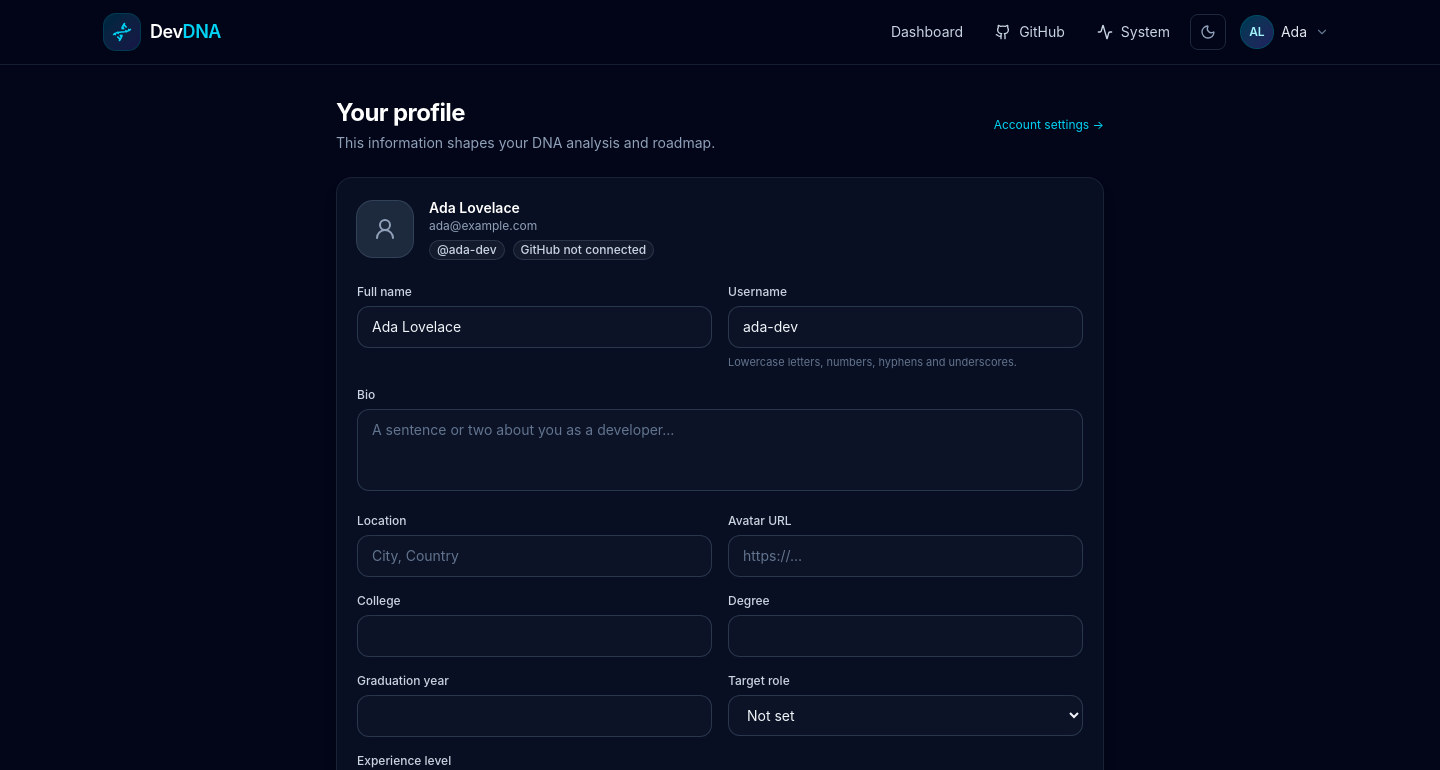
Test: profile editing › reports server validation errors inline
Replace the text in the field labelled "Username" with "taken-name" at (906, 327), box [728,306,1083,348]
(page scrolled)
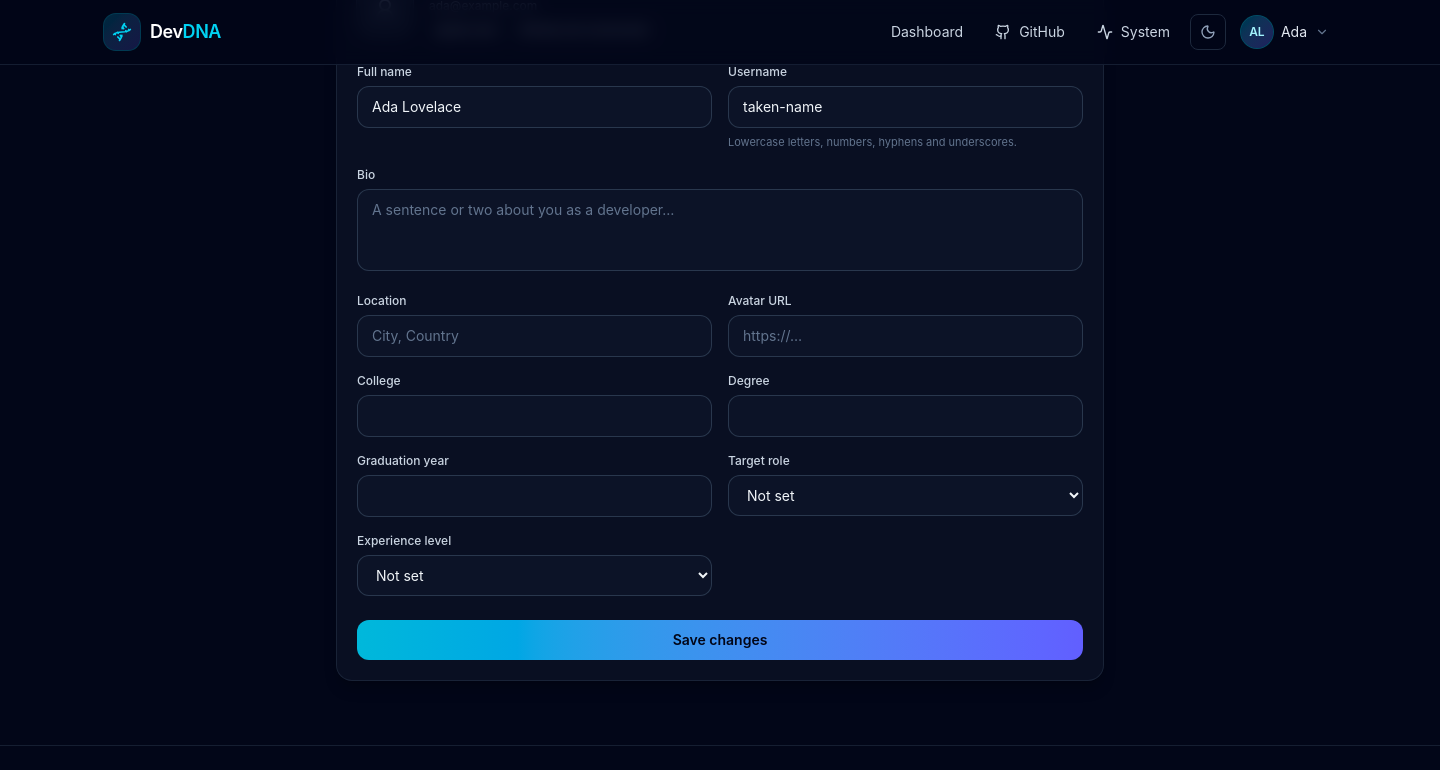
Click the button "Save changes".
click(720, 640)  # box [357,620,1083,660]
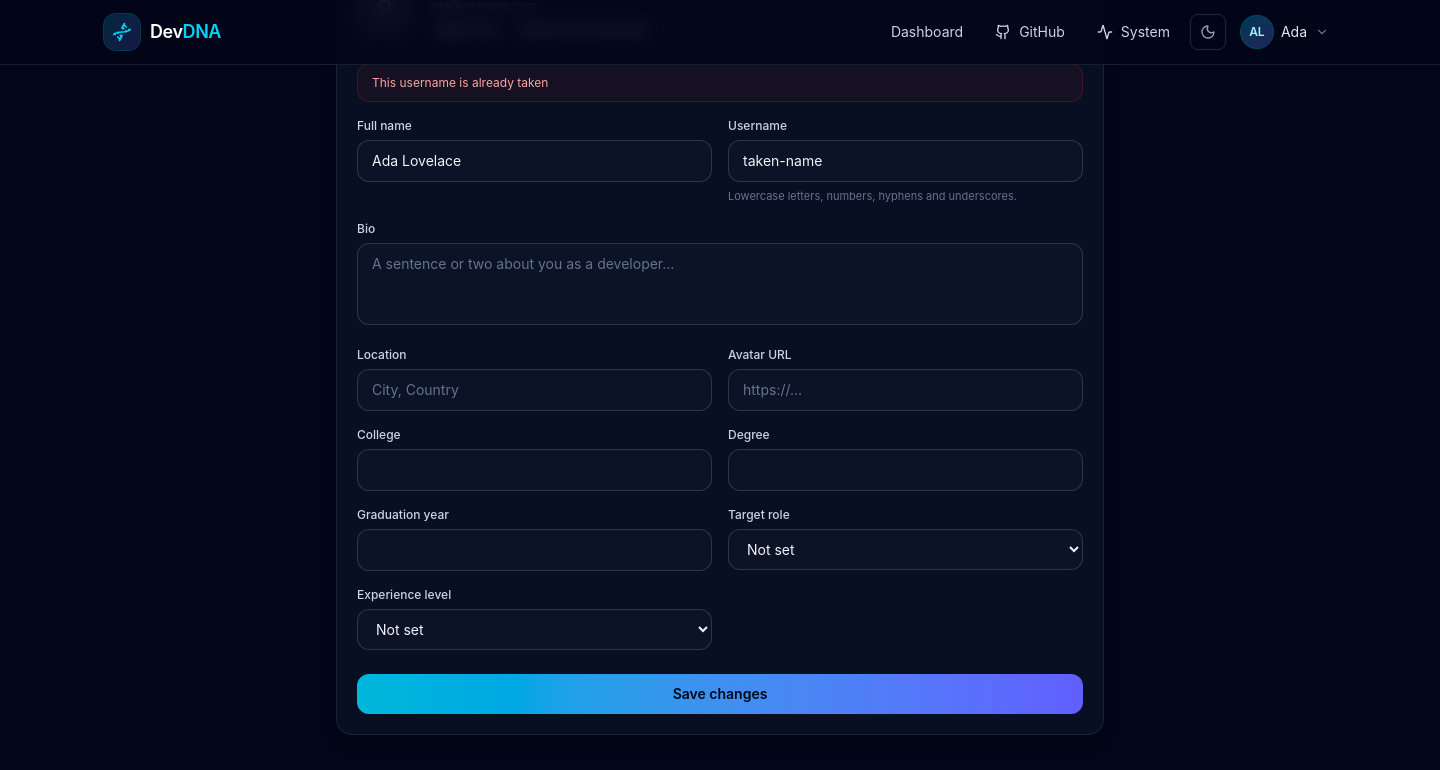
Expected: the text "This username is already taken" is shown, [357,64,1083,102]
